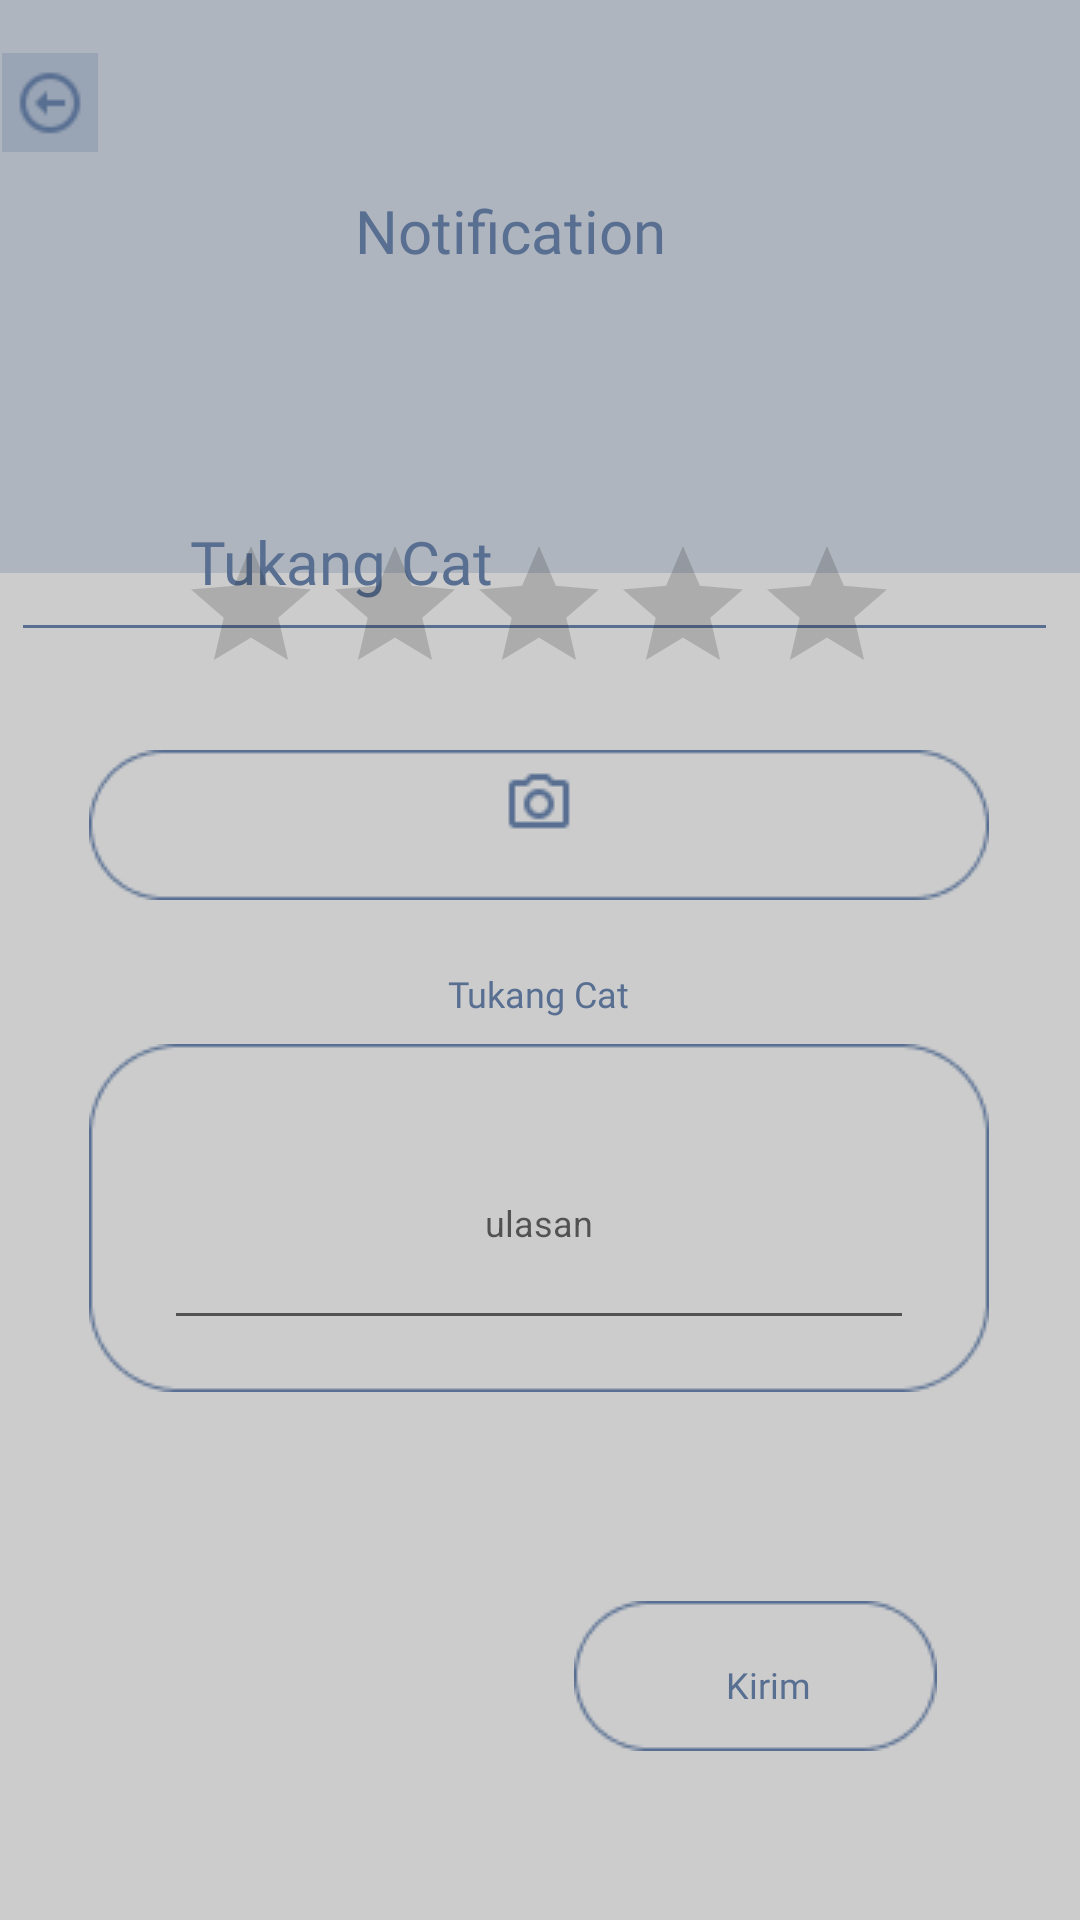

Screen size 1080x1920. Icon name, then its box in pixels as [x1=x1, y1=y1, x2=x2, y2=y2]:
back: [x1=19, y1=72, x2=81, y2=134]
